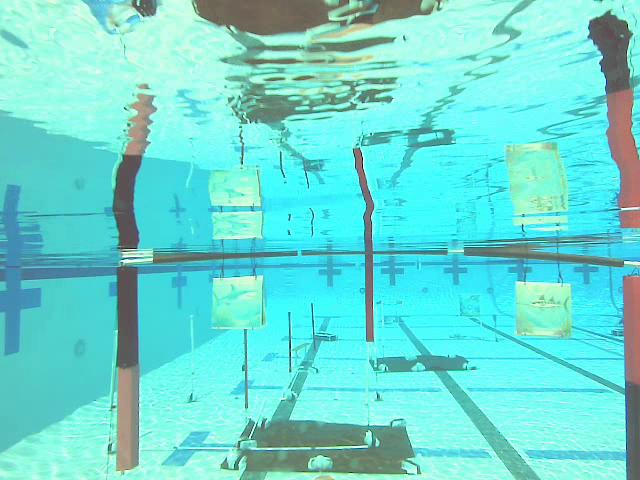black_poster: (243, 330, 250, 408), (287, 310, 293, 373), (310, 303, 317, 350)
divider: (365, 250, 373, 342)
left_gate_poster: (117, 268, 140, 471)
right_gate_poster: (623, 276, 640, 480)
shark: (210, 277, 264, 330)
swordfish: (518, 282, 571, 336)
white_poster: (187, 315, 197, 375)
